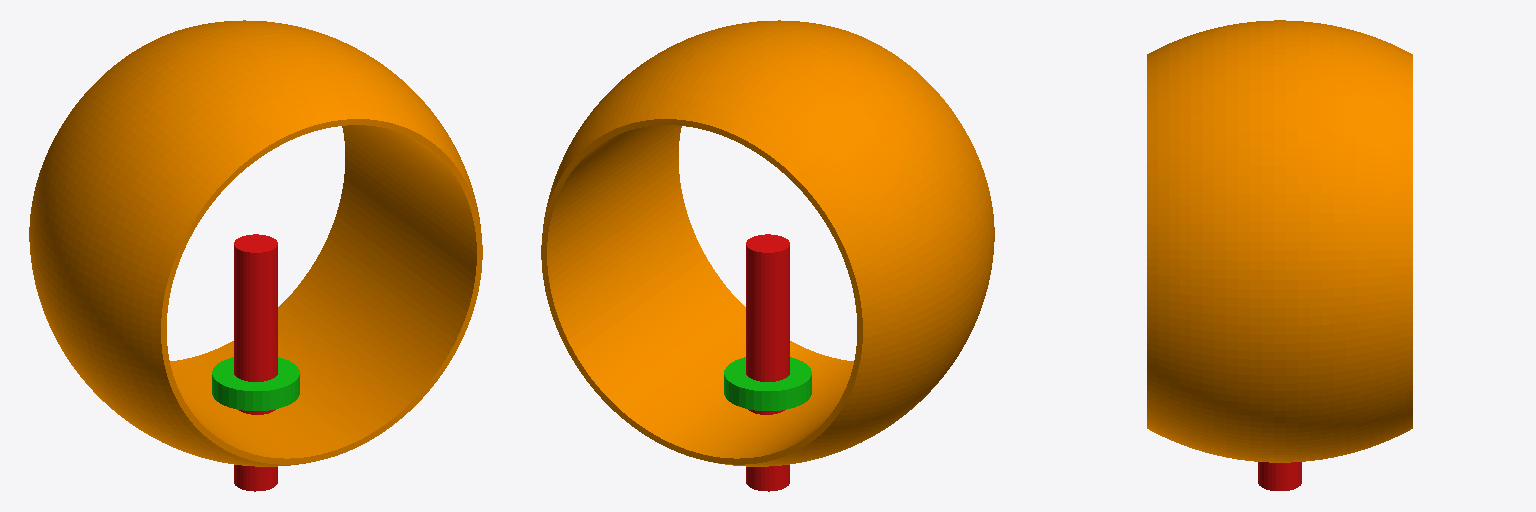
robot.urdf — spinjorr:
<?xml version="1.0"?>
<robot name="spinjorr">

  <!-- Root link -->
  <link name="hoop_link">
    <inertial>
      <origin xyz="0 0 1" rpy="0 0 0"/>
      <mass value="0.4"/>
      <inertia ixx="0.0016" ixy="0.0" ixz="0.0"
               iyy="0.0011" iyz="0.0"
               izz="0.0011"/>
    </inertial>

    <!-- Visual -->
    <visual>
      <origin xyz="0 0 0" rpy="0 0 0"/>
      <geometry>
        <mesh filename="barrel_hoop.stl" scale="1 1 1"/>
      </geometry>
      <material name="dark_gray">
        <color rgba="0.973 0.576 0.000 1.0"/>
      </material>
    </visual>

    <!-- Collision -->
    <collision>
      <origin xyz="0 0 0.0" rpy="0 0 0"/>
      <geometry>
        <mesh filename="barrel_hoop.stl" scale="1 1 1"/>
      </geometry>
    </collision>
  </link>

  <!-- Pendulum joint -->
  <joint name="pendulum_joint" type="revolute">
    <parent link="hoop_link"/>
    <child link="pendulum_link"/>
    <origin xyz="0 0 0" rpy="0 0 0"/>
    <axis xyz="0 1 0"/>
    <limit lower="-3.14159" upper="3.14159" effort="10" velocity="10"/>
  </joint>

  <link name="pendulum_link">
    <inertial>
      <origin xyz="0 0 -0.06" rpy="0 0 0"/>
      <mass value="0.45"/>
      <inertia ixx="0.00066" ixy="0.0" ixz="0.0"
               iyy="0.00066" iyz="0.0"
               izz="0.00063"/>
    </inertial>

    <visual>
      <origin xyz="0 0 -0.06" rpy="0 0 0"/>
      <geometry>
        <cylinder radius="0.01" length="0.12"/>
      </geometry>
      <material name="red">
        <color rgba="0.9 0.1 0.1 1.0"/>
      </material>
    </visual>

    <collision>
      <origin xyz="0 0 -0.06" rpy="0 0 0"/>
      <geometry>
        <cylinder radius="0.01" length="0.12"/>
      </geometry>
    </collision>
  </link>

  <!-- Rotor joint -->
  <joint name="rotor_joint" type="revolute">
    <parent link="pendulum_link"/>
    <child link="rotor_link"/>
    <origin xyz="0 0 -0.07" rpy="0 0 0"/>
    <axis xyz="0 0 1"/>
    <limit lower="-3.14159" upper="3.14159" effort="10" velocity="10"/>
  </joint>

  <link name="rotor_link">
    <inertial>
      <origin xyz="0 0 0" rpy="0 0 0"/>
      <mass value="0.03"/>
      <inertia ixx="0.000013" ixy="0.0" ixz="0.0"
               iyy="0.000013" iyz="0.0"
               izz="0.000026"/>
    </inertial>

    <visual>
      <origin xyz="0 0 0" rpy="0 0 0"/>
      <geometry>
        <cylinder radius="0.02" length="0.01"/>
      </geometry>
      <material name="green">
        <color rgba="0.1 0.8 0.1 1.0"/>
      </material>
    </visual>

    <collision>
      <origin xyz="0 0 0" rpy="0 0 0"/>
      <geometry>
        <cylinder radius="0.02" length="0.01"/>
      </geometry>
    </collision>
  </link>

</robot>

--- Render facts (derived) ---
The picture shows the robot from 3 angles, left to right: view 1: azimuth 30°, elevation 25°; view 2: azimuth 150°, elevation 25°; view 3: azimuth 270°, elevation 25°; orthographic projection.
Robot: spinjorr — 3 links, 2 joints (2 revolute); root link hoop_link; default pose: all joints at 0.
Visible links, largest first — view 1: hoop_link, pendulum_link, rotor_link; view 2: hoop_link, pendulum_link, rotor_link; view 3: hoop_link, pendulum_link.
Link boxes in pixels (x1=…): hoop_link: x1=29, y1=20, x2=482, y2=466; pendulum_link: x1=234, y1=234, x2=277, y2=491; rotor_link: x1=212, y1=357, x2=299, y2=410; hoop_link: x1=541, y1=20, x2=994, y2=466; pendulum_link: x1=746, y1=234, x2=789, y2=491; rotor_link: x1=724, y1=357, x2=811, y2=410; hoop_link: x1=1147, y1=20, x2=1412, y2=462; pendulum_link: x1=1258, y1=462, x2=1301, y2=490.
Bounding box of the posed robot: 0.1999 × 0.12 × 0.22 m (x, y, z).
Meshes: 1 distinct files referenced, 1 mesh visuals loaded (1 binary STL).
